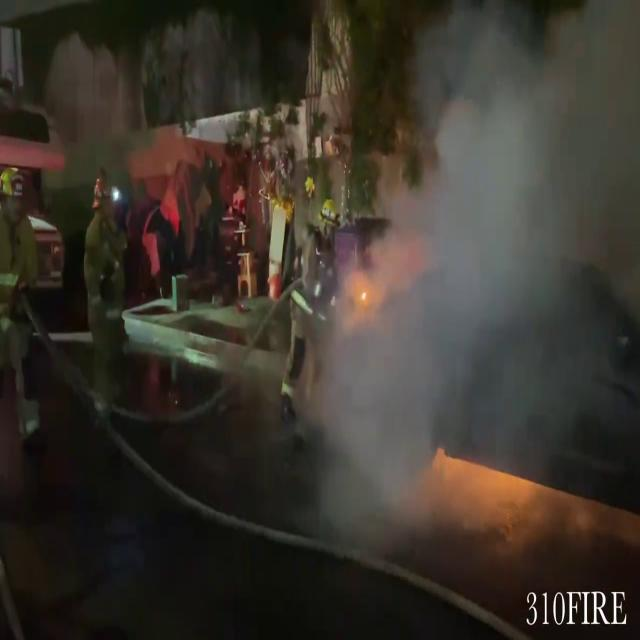Smoke: (310, 2, 638, 536), (38, 16, 150, 198)
